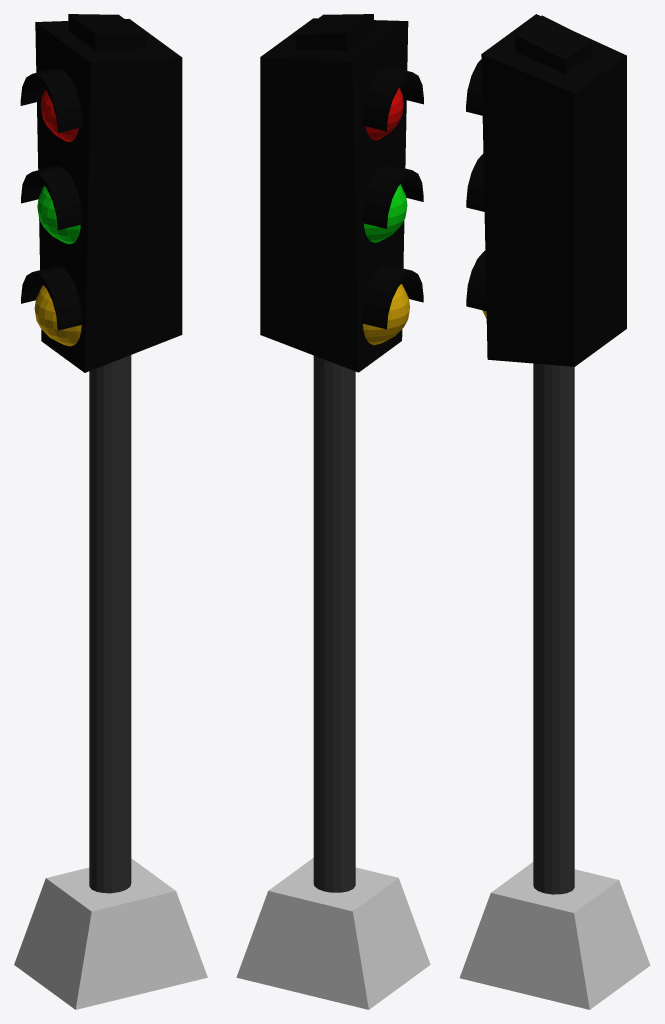
Rendered from semaforo.obj.
3 views of the same model, side by side, from view 1: azimuth 30°, elevation 25°; view 2: azimuth 150°, elevation 25°; view 3: azimuth 330°, elevation 25° (orthographic).
Parts seen in each view (by area): view 1: Semaforo; view 2: Semaforo; view 3: Semaforo.
Part boxes in pixels (left/top/right/bottom): Semaforo: left=14, top=14, right=207, bottom=1009; Semaforo: left=236, top=14, right=430, bottom=1009; Semaforo: left=459, top=14, right=650, bottom=1009.
Bounding box in the file's own units: 1.63 × 10.66 × 1.25.
